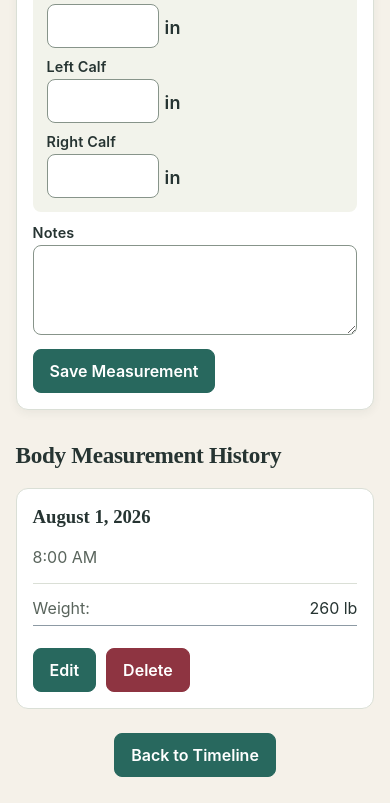
Scenario: edit scrolls to the editor, preserves identity, then scrolls to the updated entry
(page scrolled)
Click the button "Edit" at (64, 670), box [33,648,96,692]
(page scrolled)
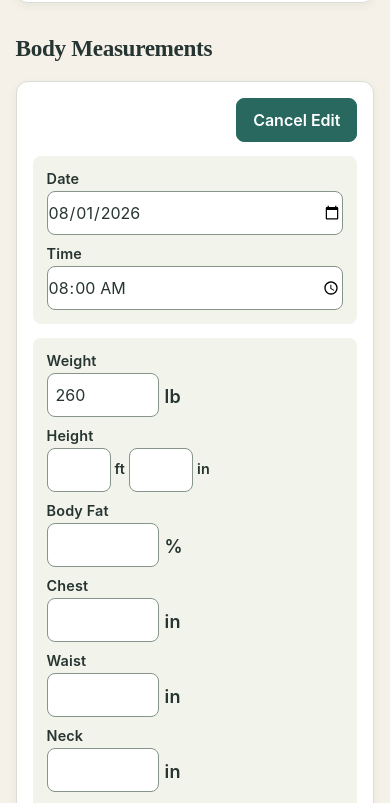
Replace the text in the number field labelled "Weight" with "257" at (103, 395), box [47,373,159,417]
(page scrolled)
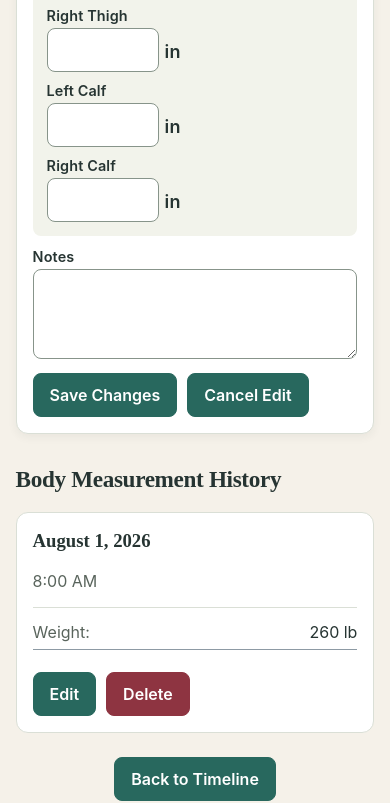
Click the button "Save Changes" at (105, 395), box [33,373,177,417]
(page scrolled)
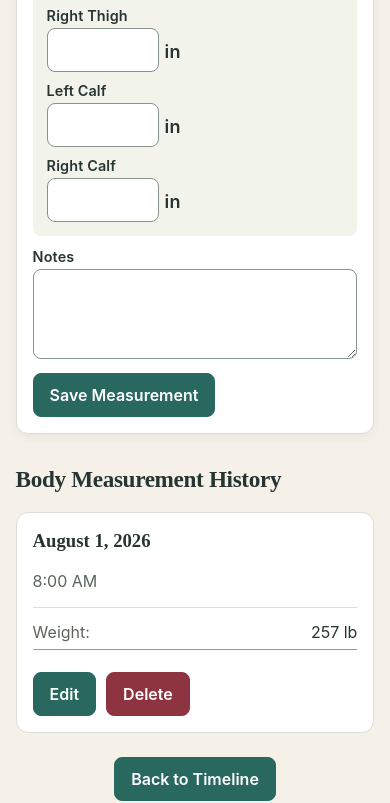
Expected: the element showing "August 1, 2026 8:00 AM Weight: 257 lb Edit Delete" is shown, [16,512,374,733]
